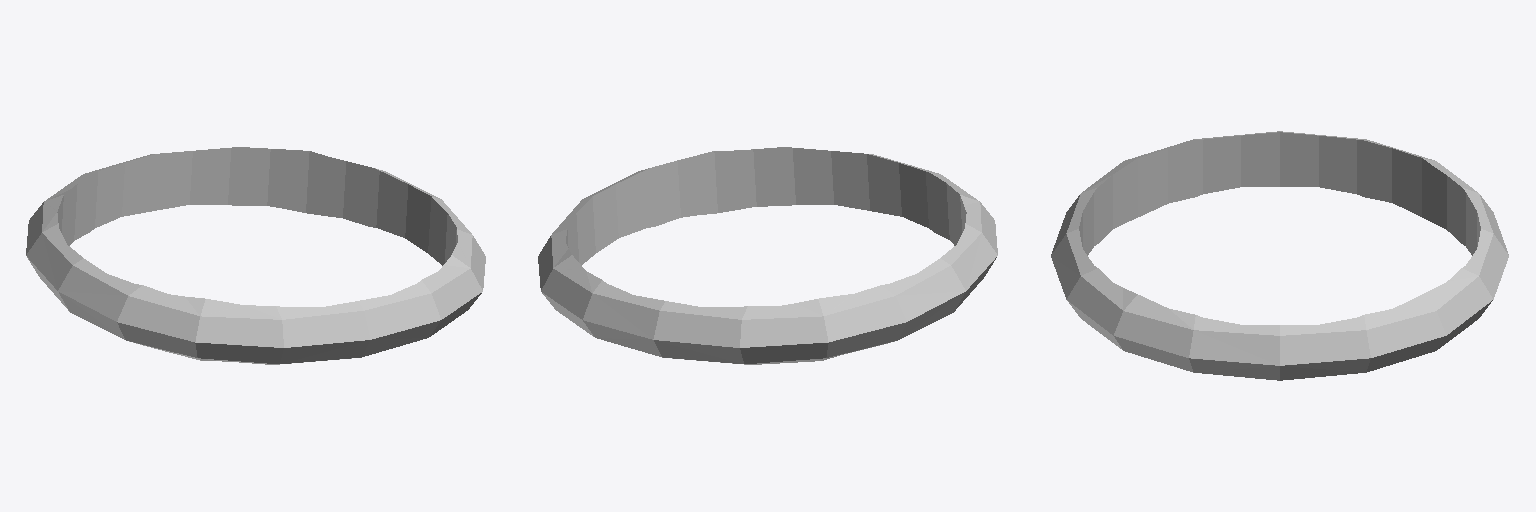
The model's file is tornade2.obj.
3 views of the same model, side by side, from view 1: azimuth 30°, elevation 25°; view 2: azimuth 150°, elevation 25°; view 3: azimuth 270°, elevation 25° (orthographic).
Parts seen in each view (by area): view 1: 立方体.008; view 2: 立方体.008; view 3: 立方体.008.
Part boxes in pixels (bbox=[...]): 立方体.008: bbox=[26, 147, 485, 364]; 立方体.008: bbox=[538, 147, 997, 364]; 立方体.008: bbox=[1051, 131, 1508, 380].
Size of the model in its own units: 2.1 by 0.4024 by 2.1.